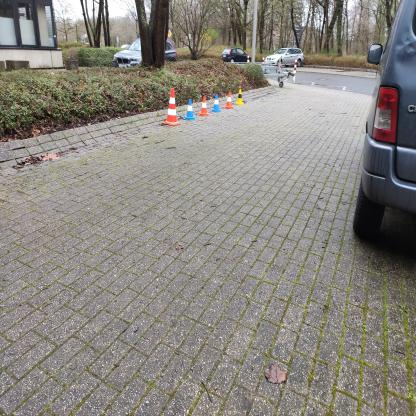Cones_big: (161, 84, 182, 129)
Cones_small_blue: (211, 92, 226, 113), (184, 100, 197, 121)
Cones_small_orange: (222, 91, 236, 109), (199, 94, 209, 115)
Cones_small_yellow: (235, 86, 248, 107)
